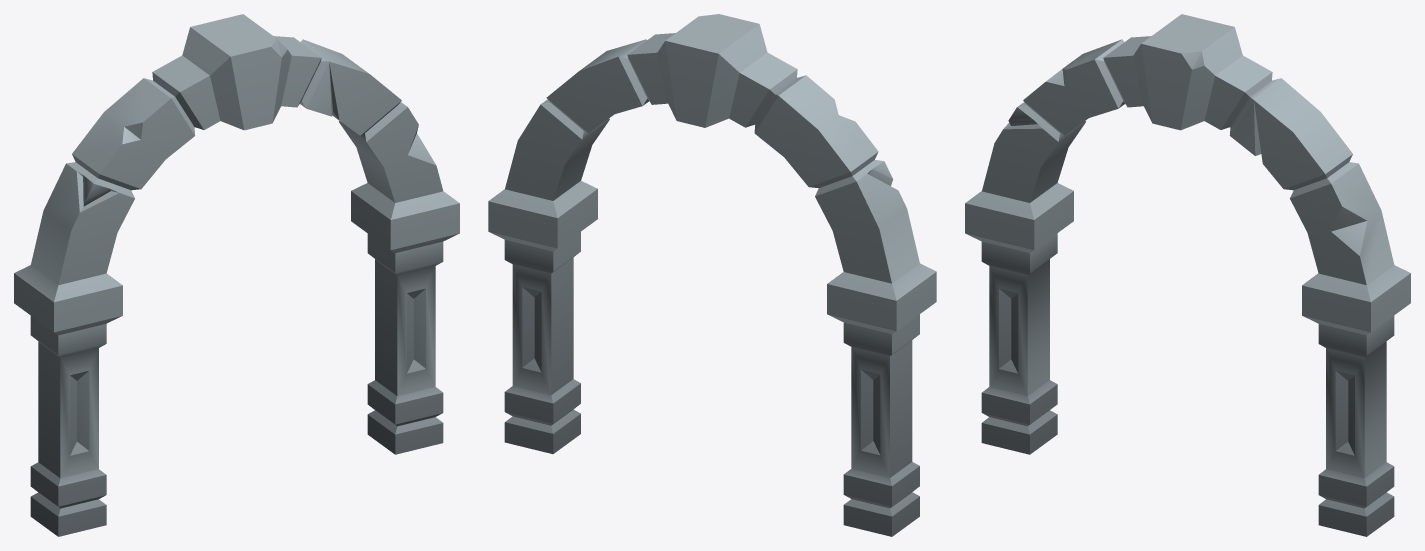
Rendered from arch-frame.glb.
3 renders of one model, left to right at view 1: azimuth 30°, elevation 25°; view 2: azimuth 150°, elevation 25°; view 3: azimuth 330°, elevation 25°, orthographic.
Visible parts, largest first — view 1: arch; view 2: arch; view 3: arch.
Part boxes in pixels (x1,y1,x2,y2): arch: (14,14,459,536); arch: (488,14,936,536); arch: (965,14,1410,536).
Size of the model in its own units: 4.22 by 4.41 by 0.7698.
Materials: 1 (1 with a texture image).
